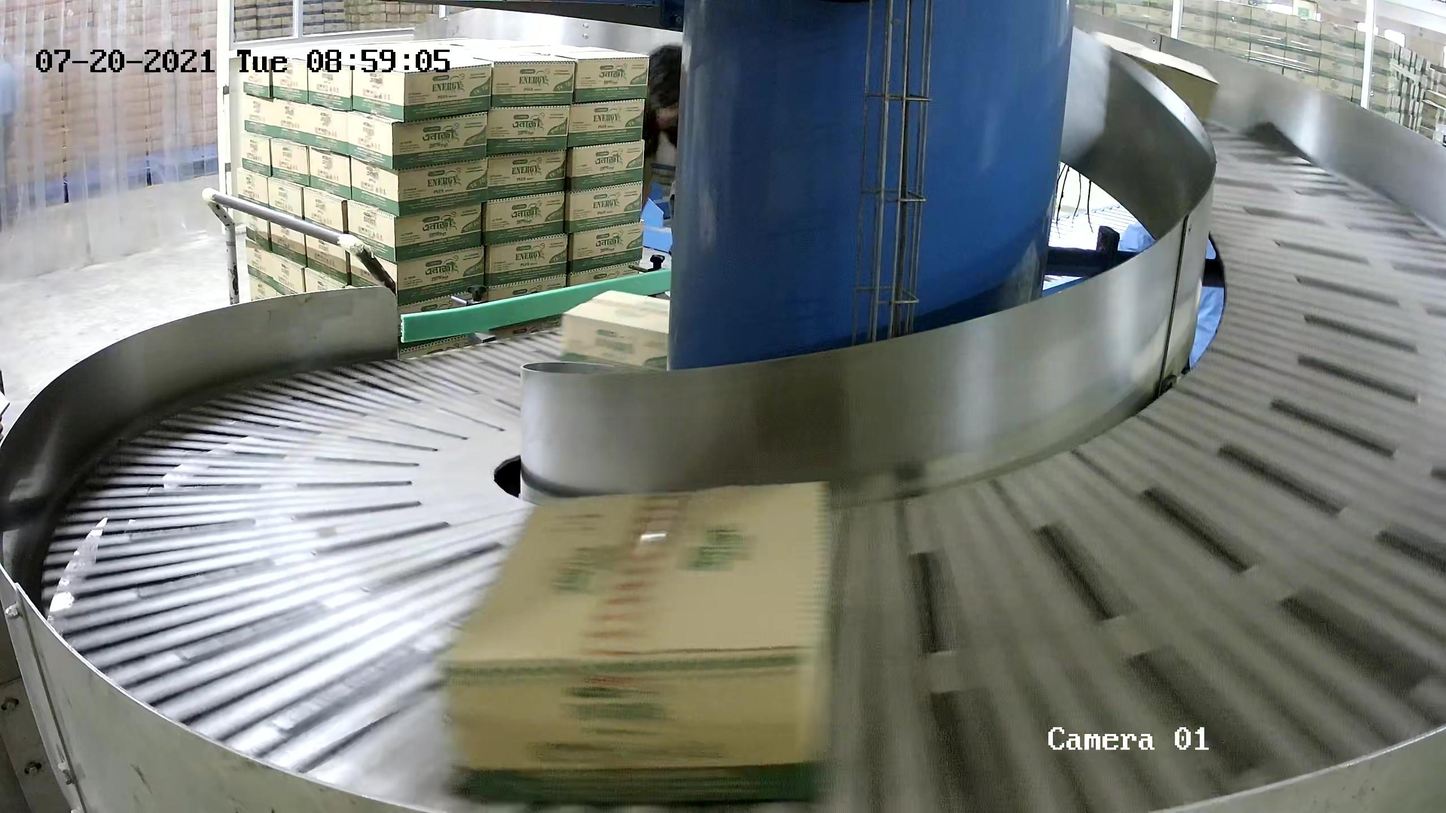Box: (437, 476, 839, 813), (559, 288, 670, 373)
